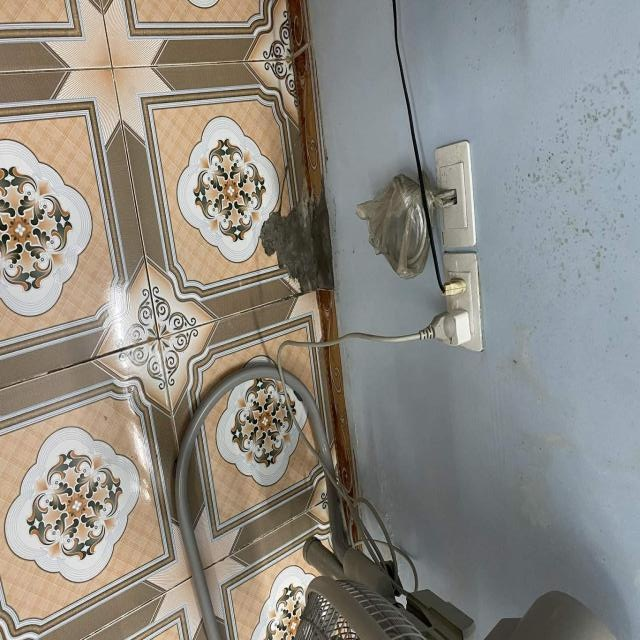outlet: (434, 139, 477, 249), (441, 251, 484, 351)
